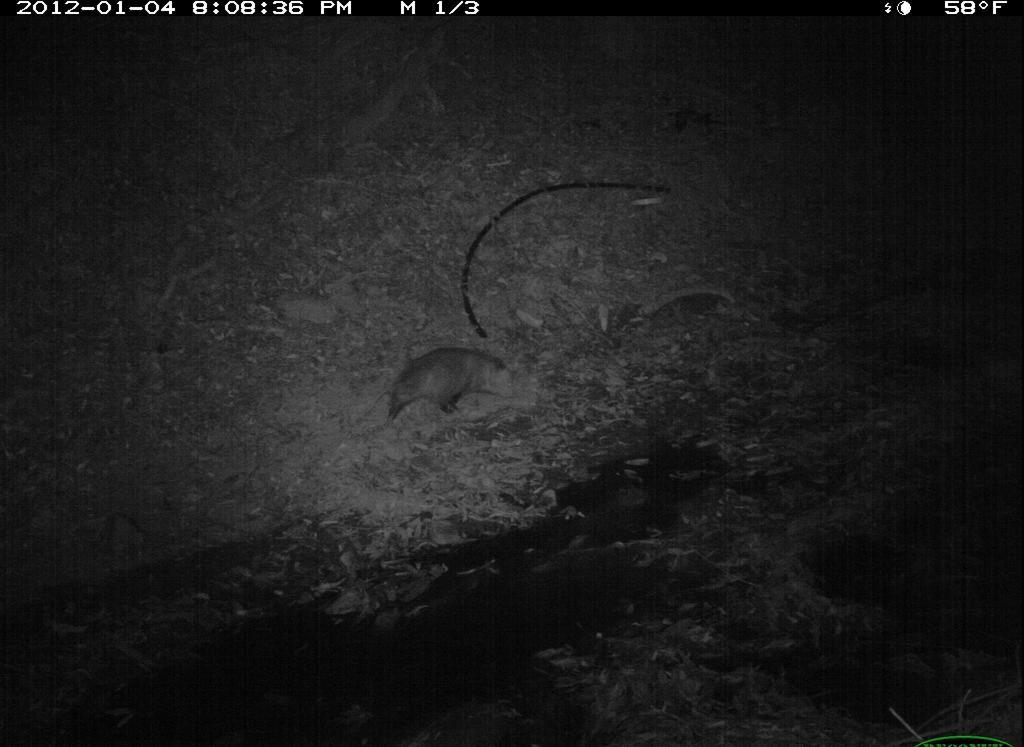opossum: (361, 345, 520, 434)
